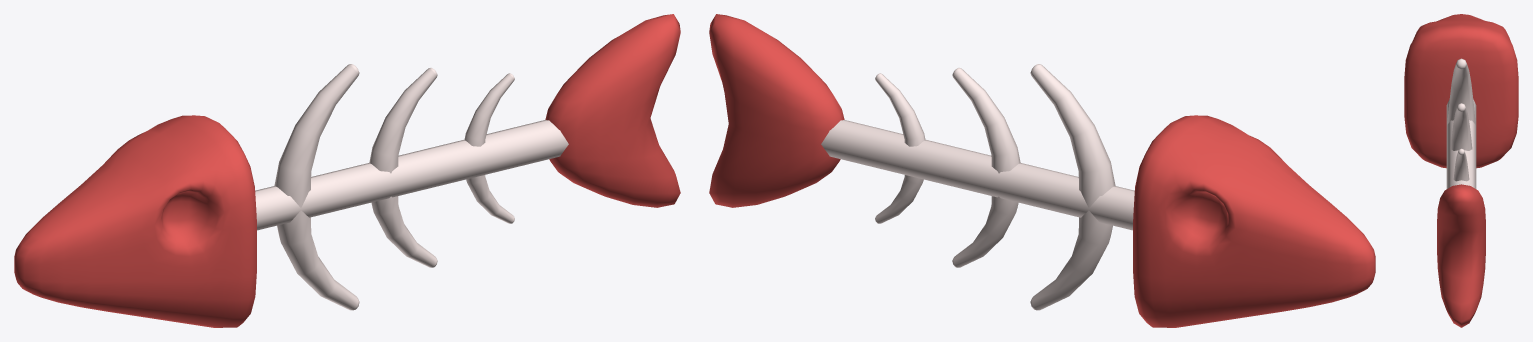
File: Skeleton_Fish_6.fbx
3 views of the same model, side by side, from view 1: azimuth 30°, elevation 25°; view 2: azimuth 150°, elevation 25°; view 3: azimuth 270°, elevation 25° (orthographic). The views are drawn at different scales.
Visible parts, largest first — view 1: Skeleton_Fish_6; view 2: Skeleton_Fish_6; view 3: Skeleton_Fish_6.
Boxes of the visible parts, x1=… form: Skeleton_Fish_6: x1=14, y1=14, x2=680, y2=327; Skeleton_Fish_6: x1=709, y1=14, x2=1375, y2=327; Skeleton_Fish_6: x1=1404, y1=14, x2=1518, y2=327.
Size of the model in its own units: 54.71 by 19.33 by 11.38.
